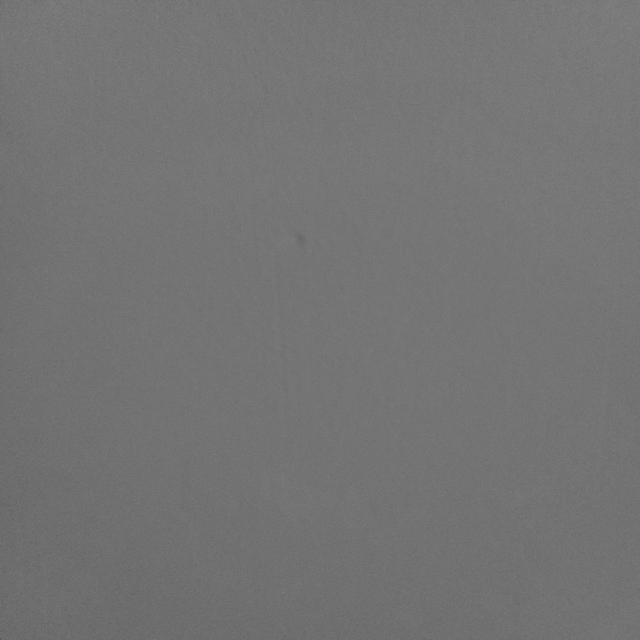rough and patchy surface: (14, 3, 623, 625)
